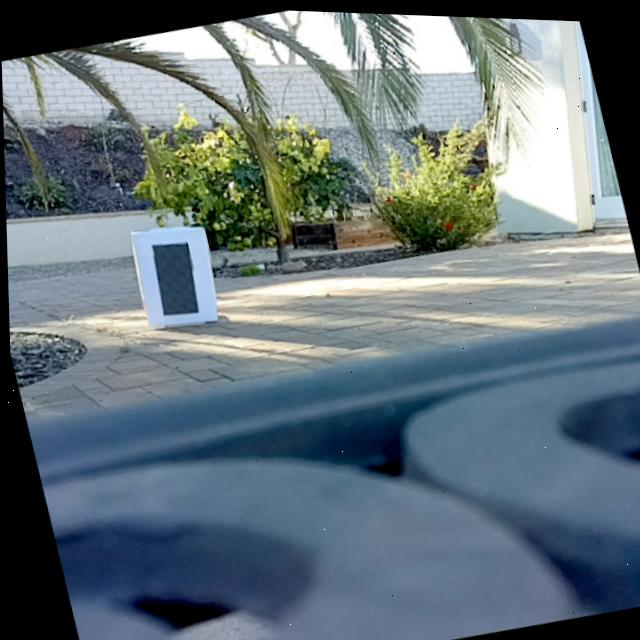led: (144, 235, 201, 320)
